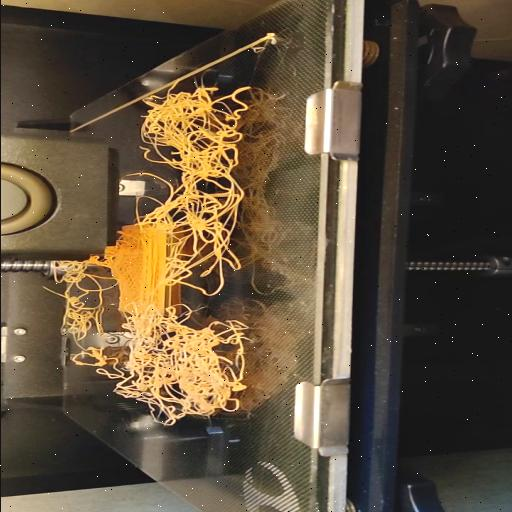spaghetti: (118, 84, 266, 428), (36, 259, 124, 397)
